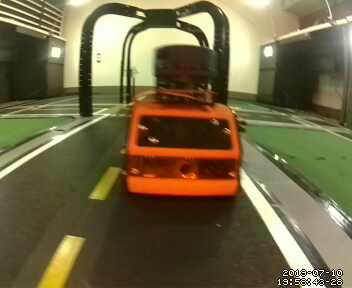pheeno: (125, 48, 249, 202)
